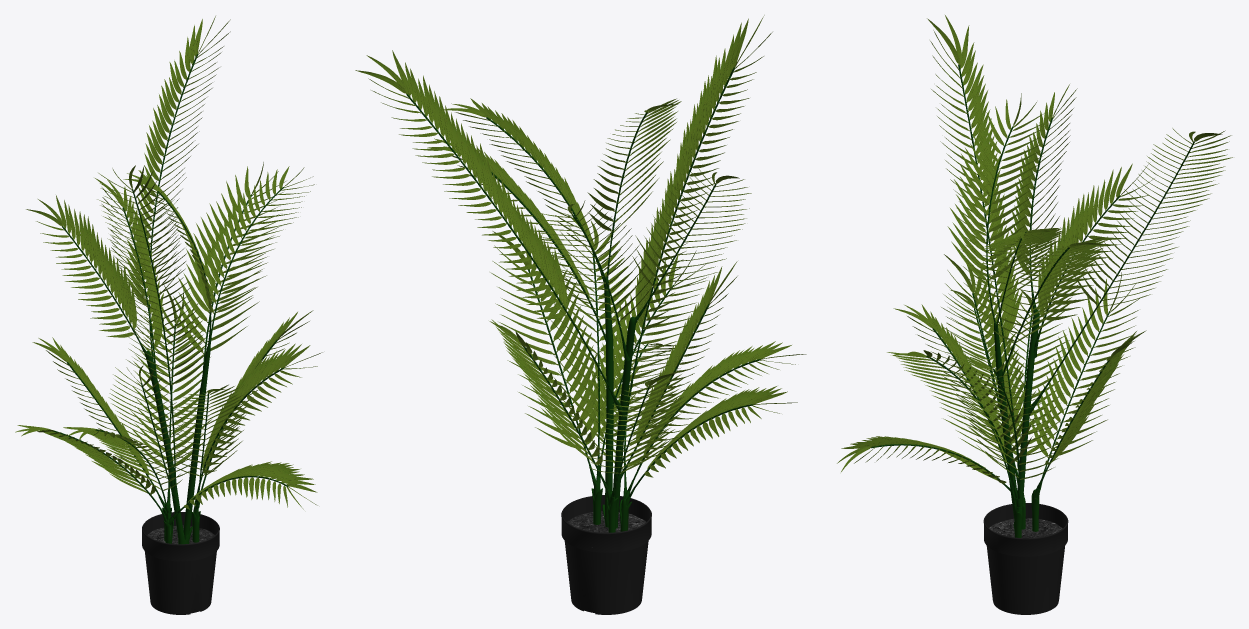
Rendered from 00600894-mini.glb.
3 views of the same model, side by side, from view 1: azimuth 30°, elevation 25°; view 2: azimuth 150°, elevation 25°; view 3: azimuth 270°, elevation 25° (orthographic). The views are drawn at different scales.
Visible parts, largest first — view 1: Line576, Line200, Cylinder001, a; view 2: Line576, Line200, Cylinder001, a; view 3: Line576, Line200, Cylinder001, a.
Boxes of the visible parts, box(x1,y1,x2,y2) form: Line576: box(15, 16, 322, 509); Line200: box(49, 54, 288, 544); Cylinder001: box(142, 512, 219, 614); a: box(147, 525, 214, 544); Line576: box(355, 15, 806, 477); Line200: box(406, 67, 760, 532); Cylinder001: box(561, 495, 651, 614); a: box(567, 511, 645, 547); Line576: box(837, 15, 1232, 483); Line200: box(871, 65, 1194, 537); Cylinder001: box(983, 503, 1068, 614); a: box(989, 518, 1062, 537).
Bounding box in the file's own units: 0.8133 × 1.29 × 0.8674.
4 materials, 2 textured.
